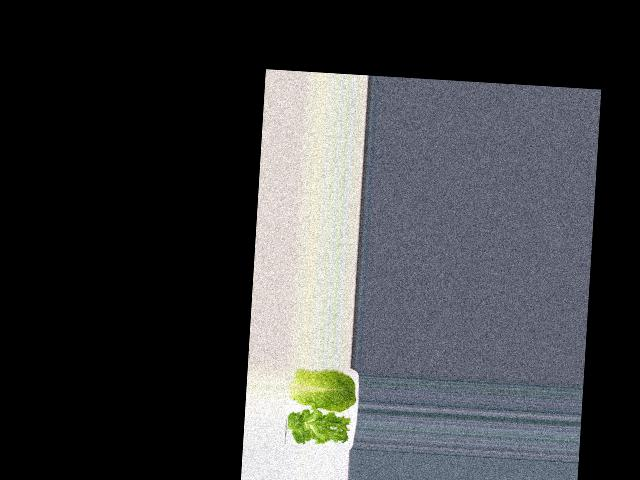lettuce: (288, 409, 351, 450)
